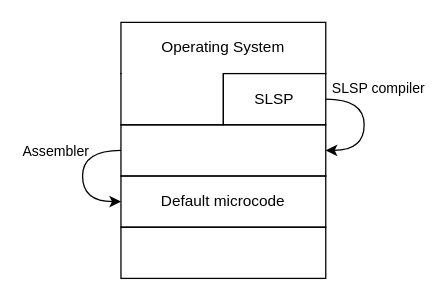
Some shapes in this 447 by 301 pixel diagram are drawn without their labels. The shapes that lost their labels are listed below. From the top down, each one's box as (x1, y1, x2, y2) in pixels, then its label:
(120, 124, 326, 176): ISA
(120, 226, 326, 278): SCv8v2
